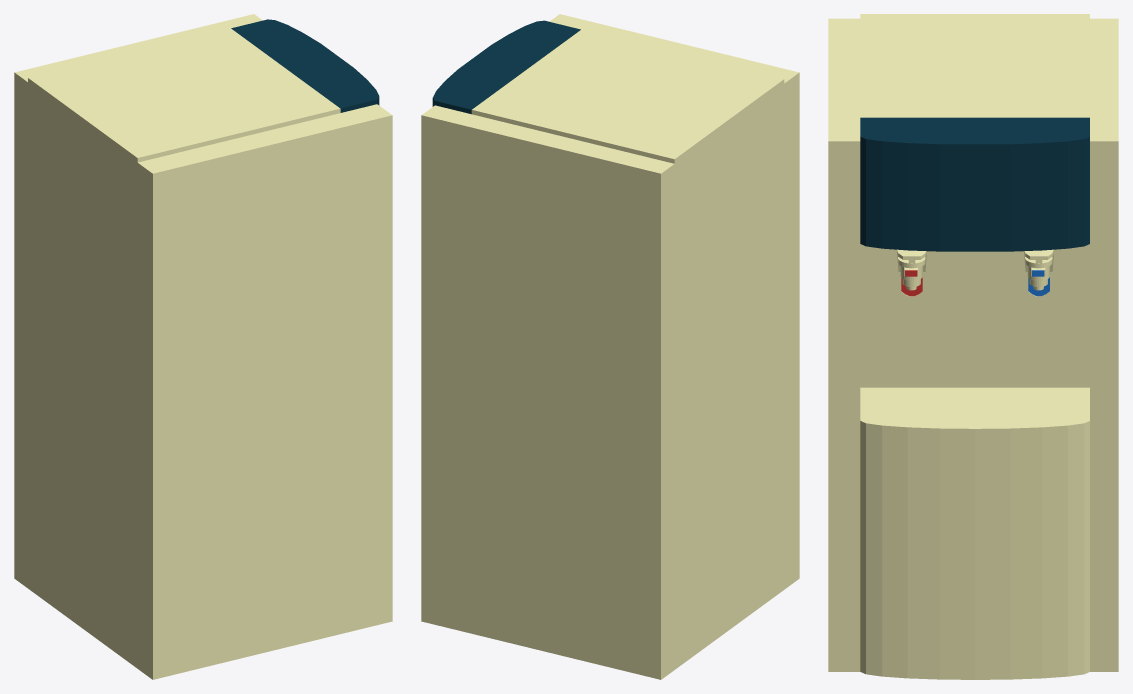
Rendered from Dispenser.fbx.
The picture shows the model from 3 angles, left to right: view 1: azimuth 30°, elevation 25°; view 2: azimuth 150°, elevation 25°; view 3: azimuth 270°, elevation 25°; orthographic projection. The views are drawn at different scales.
Parts seen in each view (by area): view 1: Cube.002; view 2: Cube.002; view 3: Cube.002.
Part boxes in pixels (x1,y1,x2,y2): Cube.002: [14, 14, 392, 679]; Cube.002: [421, 14, 799, 679]; Cube.002: [828, 14, 1118, 679].
Bounding box in the file's own units: 213 × 407 × 200.
